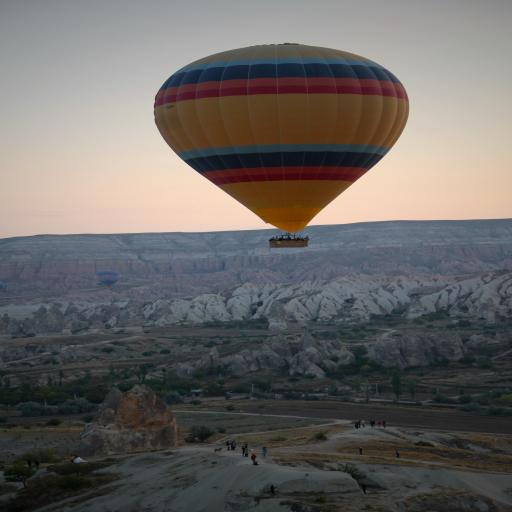hot air ballon: (155, 45, 410, 249)
